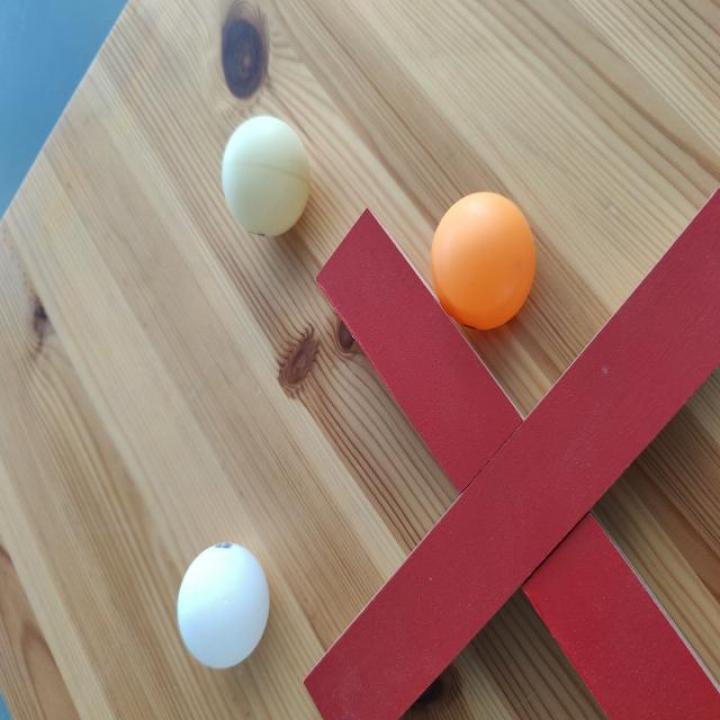orange: (430, 193, 538, 334)
white: (175, 544, 271, 674), (219, 115, 312, 240)
